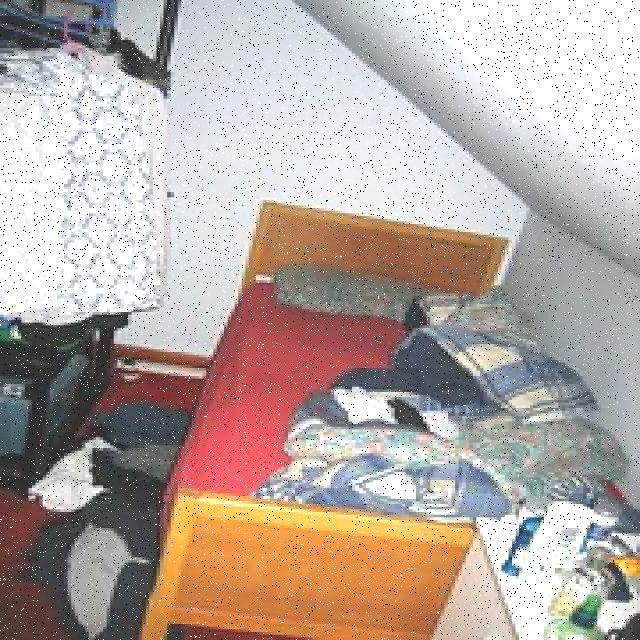bed: (220, 190, 630, 585)
